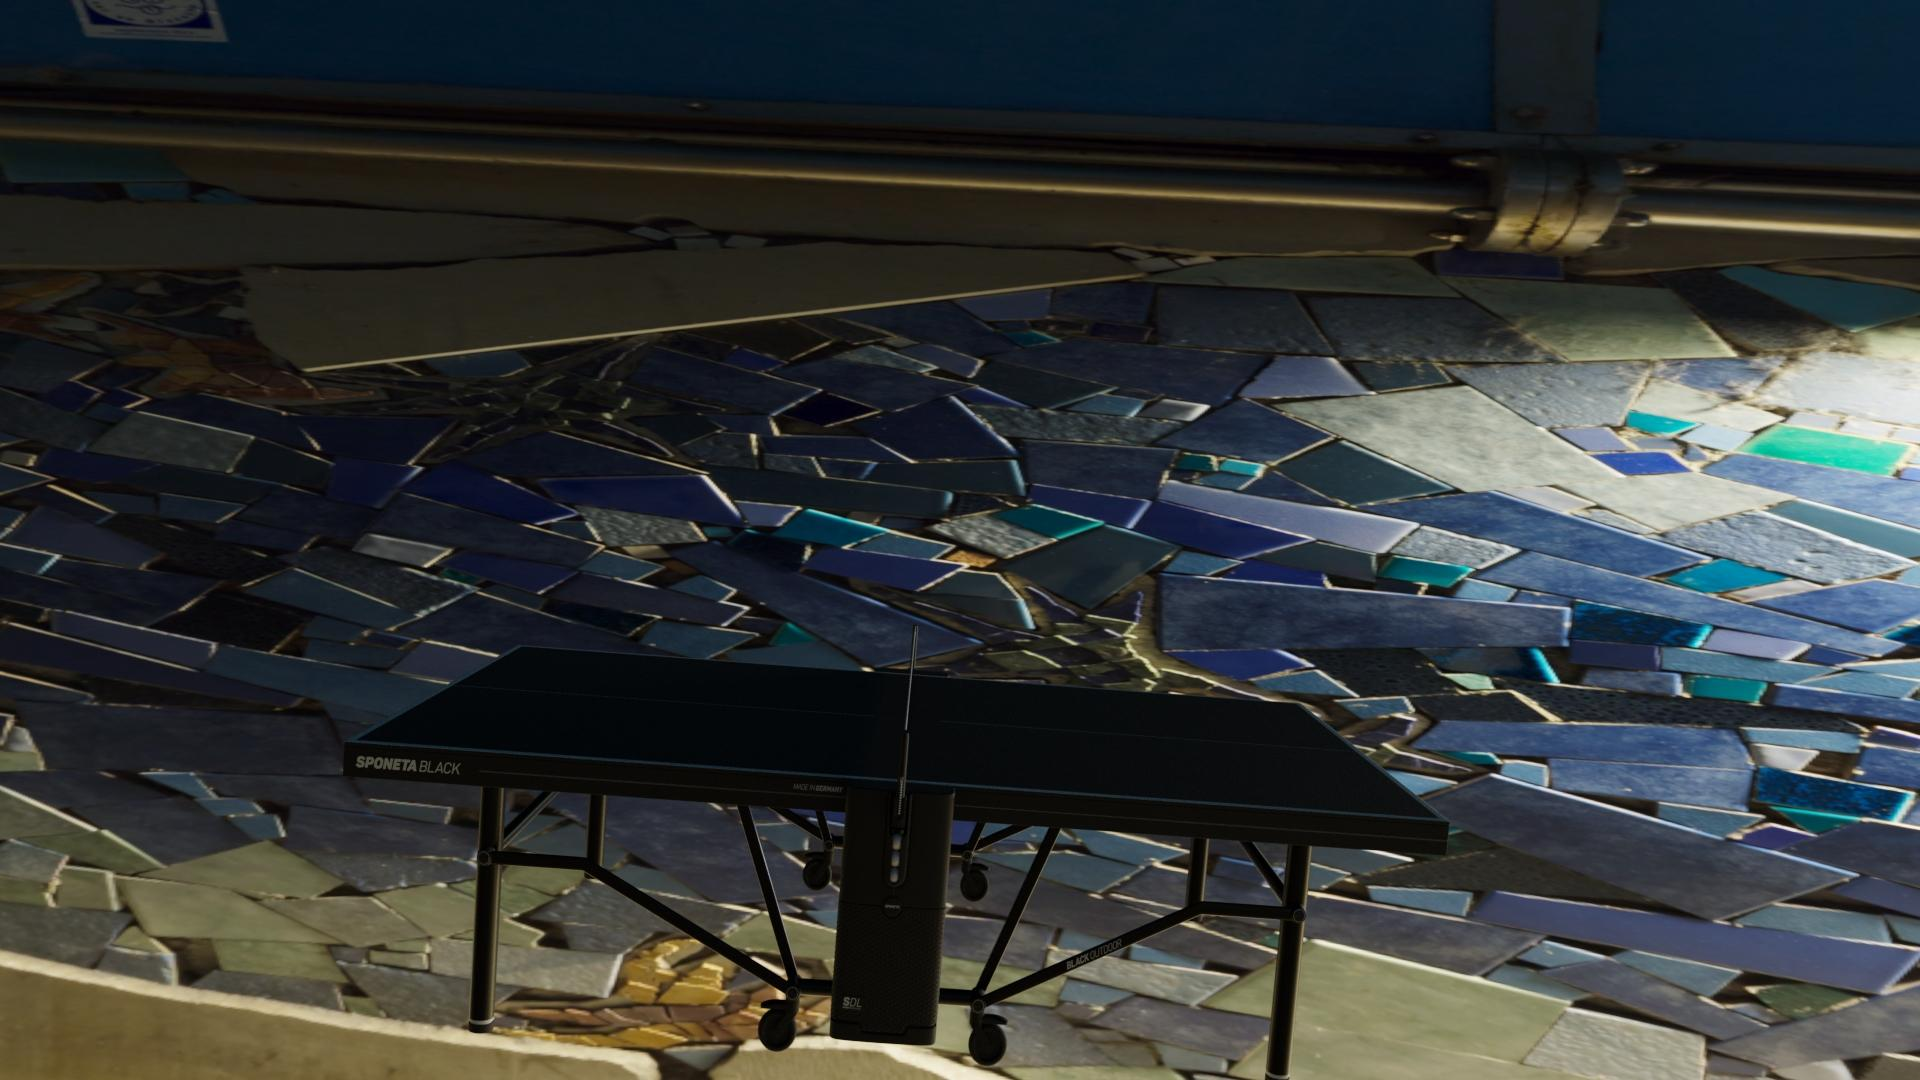table: (356, 646, 1440, 819)
